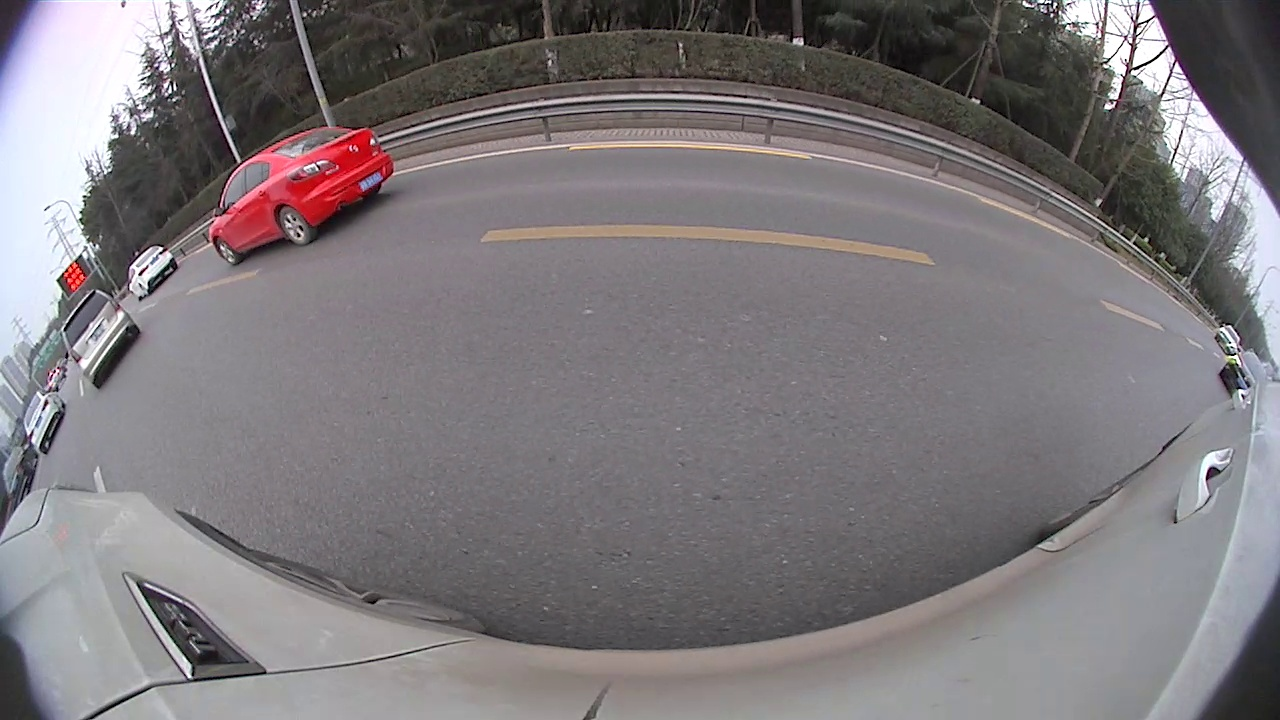car: (206, 124, 396, 268), (60, 287, 142, 390), (21, 387, 67, 456), (126, 243, 180, 301), (1218, 349, 1268, 397), (1, 441, 40, 502), (1213, 323, 1244, 357)
front: (214, 238, 238, 265)
rear: (279, 206, 310, 245)
